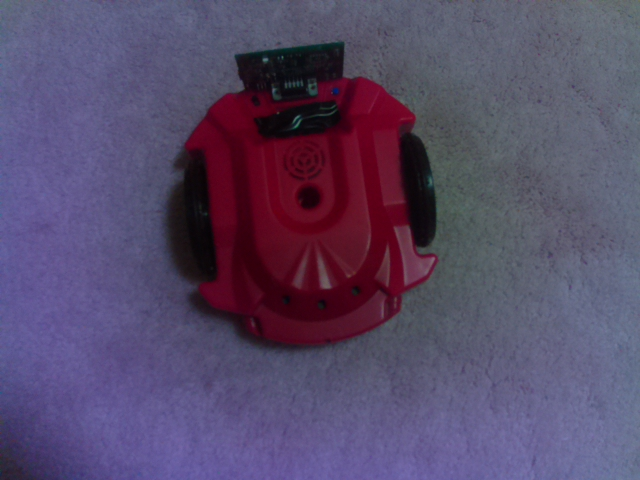chassis: (174, 40, 444, 357)
